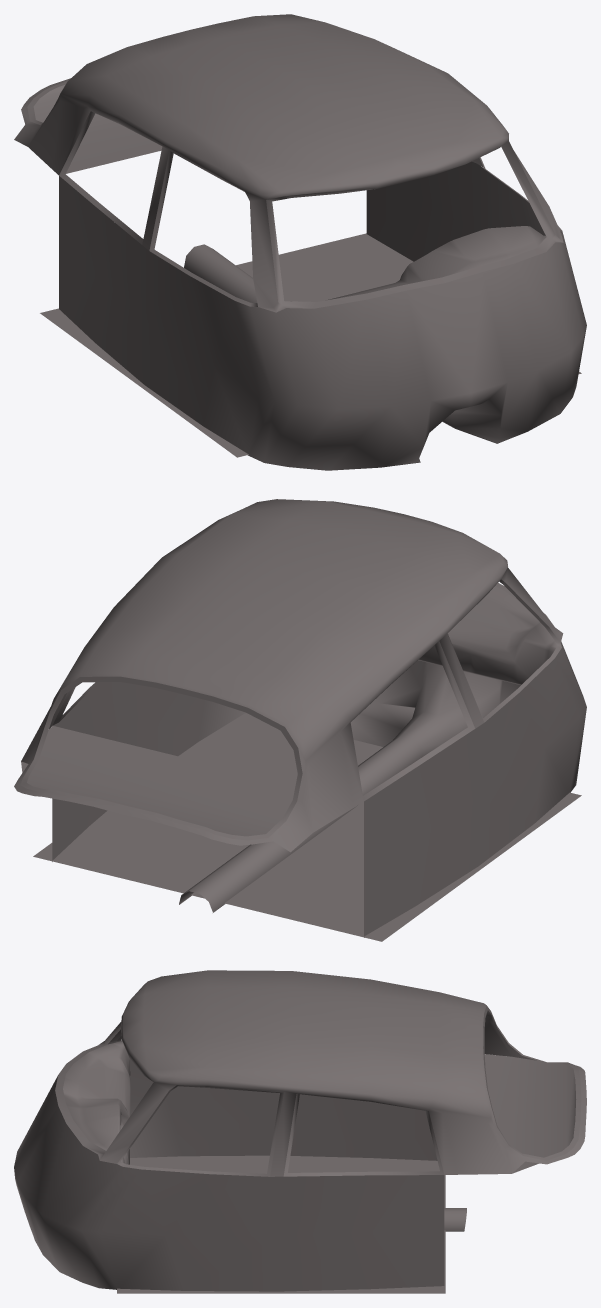
Rendered from car_interior.obj.
3 renders of one model, top to bottom at view 1: azimuth 30°, elevation 25°; view 2: azimuth 150°, elevation 25°; view 3: azimuth 270°, elevation 25°, orthographic. The views are drawn at different scales.
Parts seen in each view (by area): view 1: Mesh; view 2: Mesh; view 3: Mesh.
Boxes of the visible parts, left/top/right/bottom form: Mesh: left=14, top=14, right=586, bottom=470; Mesh: left=14, top=499, right=586, bottom=941; Mesh: left=14, top=970, right=586, bottom=1293.
Size of the model in its own units: 0.3575 by 0.2548 by 0.6182.
